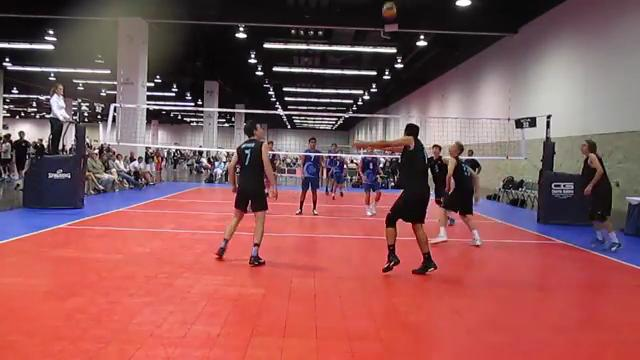Player: (216, 121, 277, 265), (432, 142, 481, 245), (581, 140, 621, 251), (296, 137, 322, 214), (358, 156, 380, 215), (428, 144, 446, 206), (332, 156, 346, 199), (325, 155, 336, 194), (267, 141, 277, 180)
Receive: (348, 121, 439, 276)
ball: (379, 0, 398, 21)
